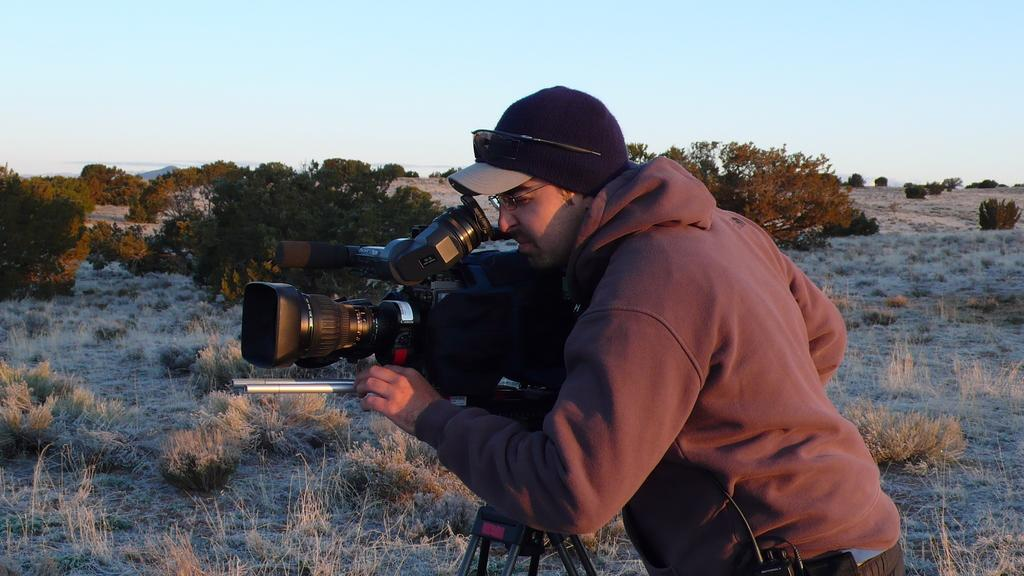Hat: (450, 162, 538, 202)
